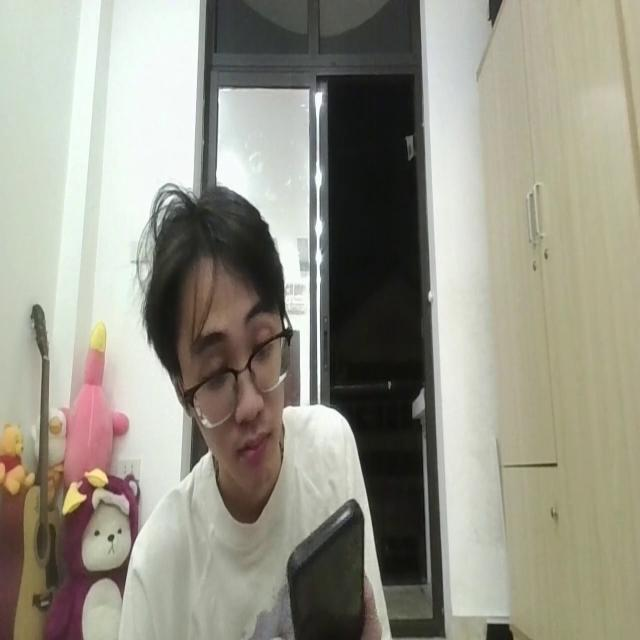phone: (280, 490, 371, 640)
student: (116, 170, 387, 640)
